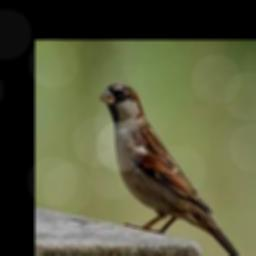Sparrow: (100, 84, 247, 256)
